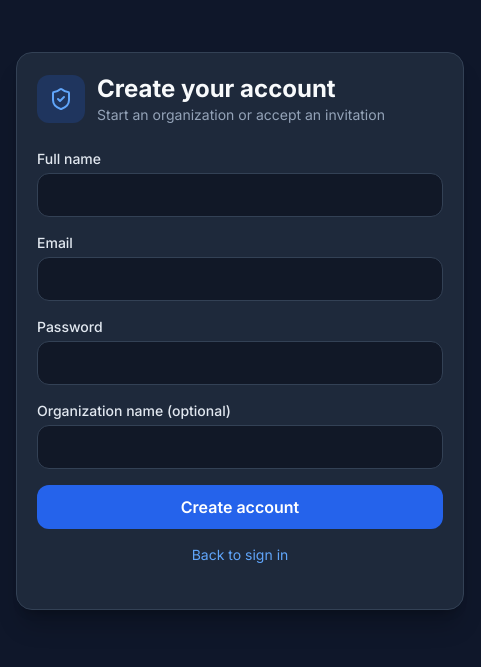
it: Stage 1 application › validates registration and supports keyboard submission
Click the button "Create account": (240, 507) top-left (37, 485), bottom-right (443, 529)
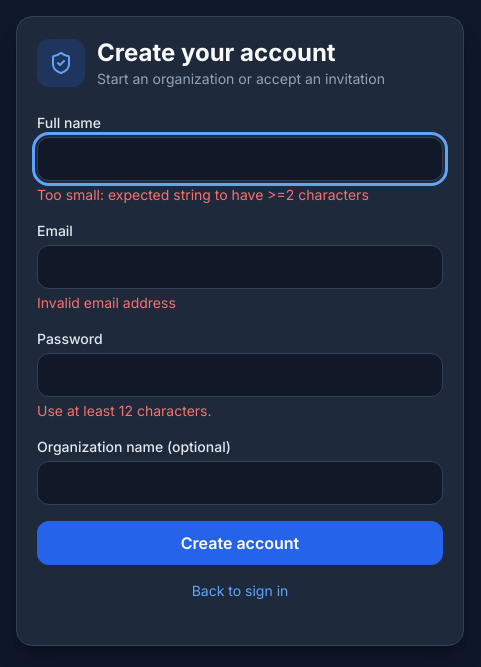
Expected: the field labelled "Full name" is shown, top-left (37, 137), bottom-right (443, 181)
Now the text "Use at least 12 characters." is shown, box top-left (37, 402), bottom-right (212, 419)
